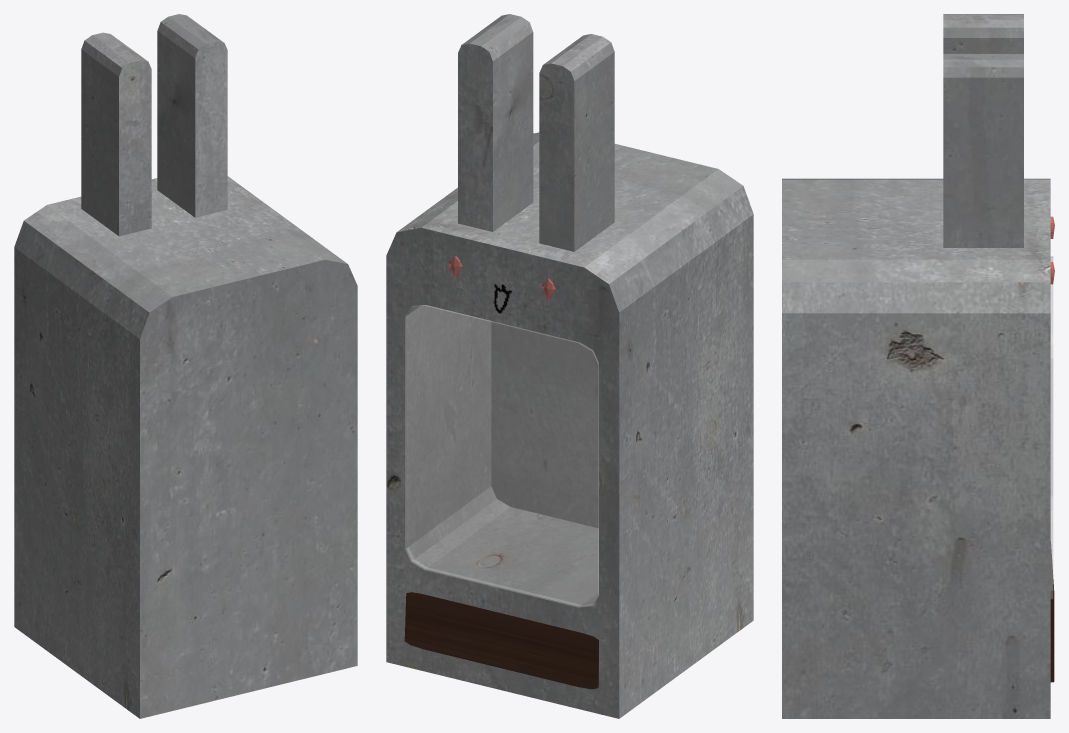
File: refridgerator.fbx
The picture shows the model from 3 angles, left to right: view 1: azimuth 30°, elevation 25°; view 2: azimuth 150°, elevation 25°; view 3: azimuth 270°, elevation 25°; orthographic projection. The views are drawn at different scales.
Visible parts, largest first — view 1: Cube; view 2: Cube, Cube.002, Cube.001; view 3: Cube, Cube.002, Cube.001.
Boxes of the visible parts, left/top/right/bottom form: Cube: left=14, top=14, right=357, bottom=718; Cube: left=386, top=14, right=753, bottom=718; Cube.002: left=405, top=305, right=598, bottom=607; Cube.001: left=404, top=592, right=598, bottom=689; Cube: left=782, top=14, right=1050, bottom=718; Cube.002: left=1050, top=256, right=1053, bottom=599; Cube.001: left=1050, top=542, right=1054, bottom=682.
Size of the model in its own units: 200 by 513 by 203.
4 materials, 2 textured.
